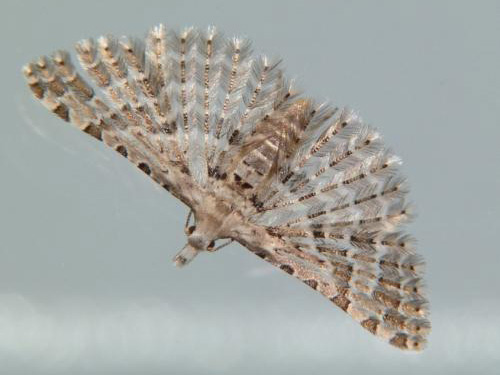Alucitidae: (19, 20, 434, 350)
moth: (21, 22, 436, 352)
